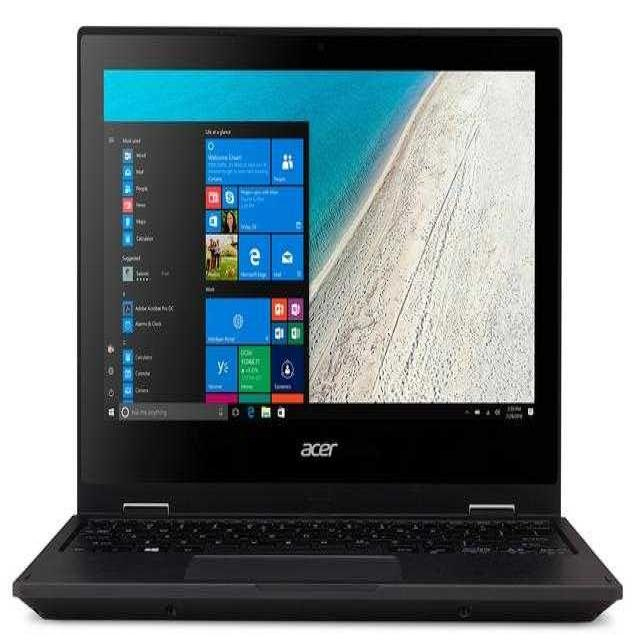laptop: (65, 28, 591, 615)
